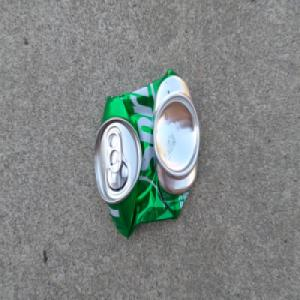SodaCan: (93, 67, 200, 240)
